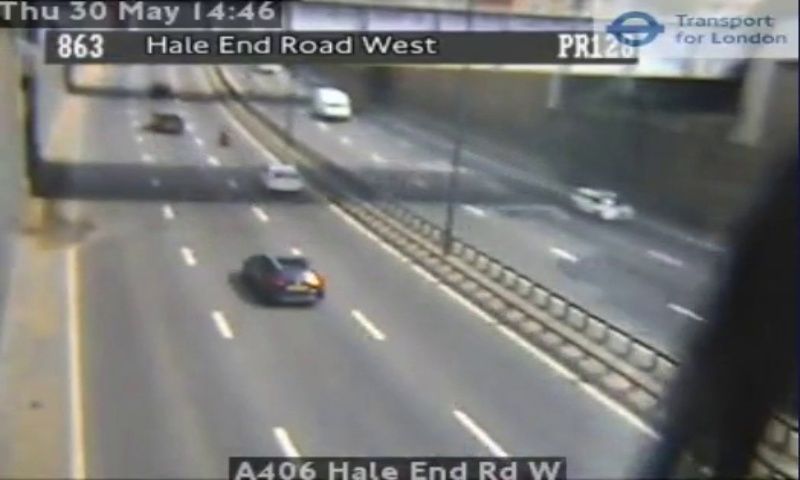car: (241, 254, 323, 304), (262, 164, 303, 192)
